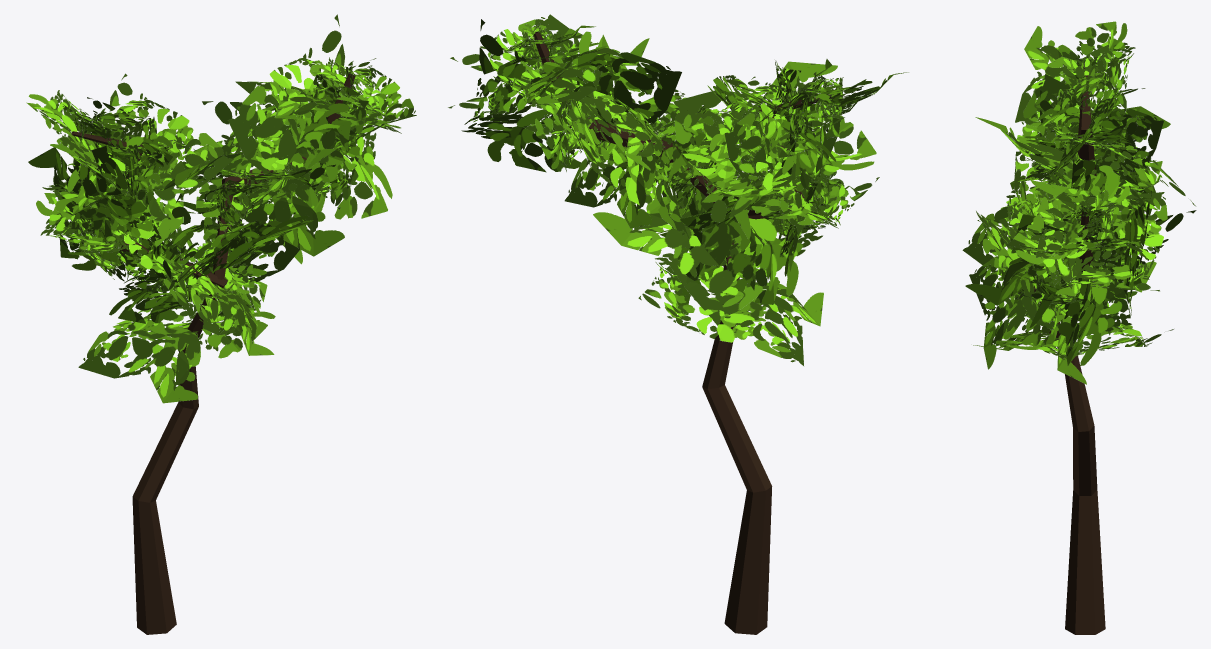
The model's file is Tree02.fbx.
3 views of the same model, side by side, from view 1: azimuth 30°, elevation 25°; view 2: azimuth 150°, elevation 25°; view 3: azimuth 270°, elevation 25° (orthographic). The views are drawn at different scales.
Visible parts, largest first — view 1: tree, tree|Leaf|Dupli|44, tree|Leaf|Dupli|2, tree|Leaf|Dupli|31, tree|Leaf|Dupli|9, tree|Leaf|Dupli|17, tree|Leaf|Dupli|5, tree|Leaf|Dupli|, tree|Leaf|Dupli|29, tree|Leaf|Dupli|23, tree|Leaf|Dupli|21, tree|Leaf|Dupli|40 (+15 smaller); view 2: tree, tree|Leaf|Dupli|44, tree|Leaf|Dupli|10, tree|Leaf|Dupli|23, tree|Leaf|Dupli|5, tree|Leaf|Dupli|2, tree|Leaf|Dupli|35, tree|Leaf|Dupli|31, tree|Leaf|Dupli|43, tree|Leaf|Dupli|13, tree|Leaf|Dupli|40, tree|Leaf|Dupli|12 (+11 smaller); view 3: tree, tree|Leaf|Dupli|44, tree|Leaf|Dupli|43, tree|Leaf|Dupli|21, tree|Leaf|Dupli|, tree|Leaf|Dupli|13, tree|Leaf|Dupli|39, tree|Leaf|Dupli|10, tree|Leaf|Dupli|20, tree|Leaf|Dupli|17, tree|Leaf|Dupli|5, tree|Leaf|Dupli|31 (+12 smaller).
Part boxes in pixels (bbox=[...]): tree: bbox=[71, 73, 355, 634]; tree|Leaf|Dupli|44: bbox=[228, 14, 392, 264]; tree|Leaf|Dupli|2: bbox=[78, 272, 275, 403]; tree|Leaf|Dupli|31: bbox=[202, 89, 350, 257]; tree|Leaf|Dupli|9: bbox=[67, 73, 233, 246]; tree|Leaf|Dupli|17: bbox=[28, 146, 177, 282]; tree|Leaf|Dupli|5: bbox=[109, 193, 300, 335]; tree|Leaf|Dupli|: bbox=[177, 228, 274, 355]; tree|Leaf|Dupli|29: bbox=[183, 110, 304, 222]; tree|Leaf|Dupli|23: bbox=[144, 215, 313, 318]; tree|Leaf|Dupli|21: bbox=[26, 90, 128, 197]; tree|Leaf|Dupli|40: bbox=[272, 58, 416, 168]; tree: bbox=[533, 31, 837, 634]; tree|Leaf|Dupli|44: bbox=[461, 19, 681, 191]; tree|Leaf|Dupli|10: bbox=[673, 61, 876, 232]; tree|Leaf|Dupli|23: bbox=[593, 105, 859, 325]; tree|Leaf|Dupli|5: bbox=[657, 140, 822, 313]; tree|Leaf|Dupli|2: bbox=[638, 248, 823, 365]; tree|Leaf|Dupli|35: bbox=[564, 73, 714, 228]; tree|Leaf|Dupli|31: bbox=[554, 31, 689, 239]; tree|Leaf|Dupli|43: bbox=[448, 28, 649, 114]; tree|Leaf|Dupli|13: bbox=[724, 72, 821, 239]; tree|Leaf|Dupli|40: bbox=[450, 14, 640, 134]; tree|Leaf|Dupli|12: bbox=[709, 76, 844, 174]; tree: bbox=[1030, 64, 1105, 634]; tree|Leaf|Dupli|44: bbox=[1029, 159, 1151, 365]; tree|Leaf|Dupli|43: bbox=[1013, 180, 1167, 291]; tree|Leaf|Dupli|21: bbox=[1015, 21, 1135, 128]; tree|Leaf|Dupli|: bbox=[969, 253, 1081, 369]; tree|Leaf|Dupli|13: bbox=[1032, 90, 1163, 215]; tree|Leaf|Dupli|39: bbox=[1036, 190, 1117, 259]; tree|Leaf|Dupli|10: bbox=[975, 117, 1196, 206]; tree|Leaf|Dupli|20: bbox=[1036, 53, 1125, 181]; tree|Leaf|Dupli|17: bbox=[982, 74, 1170, 226]; tree|Leaf|Dupli|5: bbox=[1007, 156, 1092, 384]; tree|Leaf|Dupli|31: bbox=[965, 210, 1196, 305].
Bounding box in the file's own units: 337 × 444 × 179.
